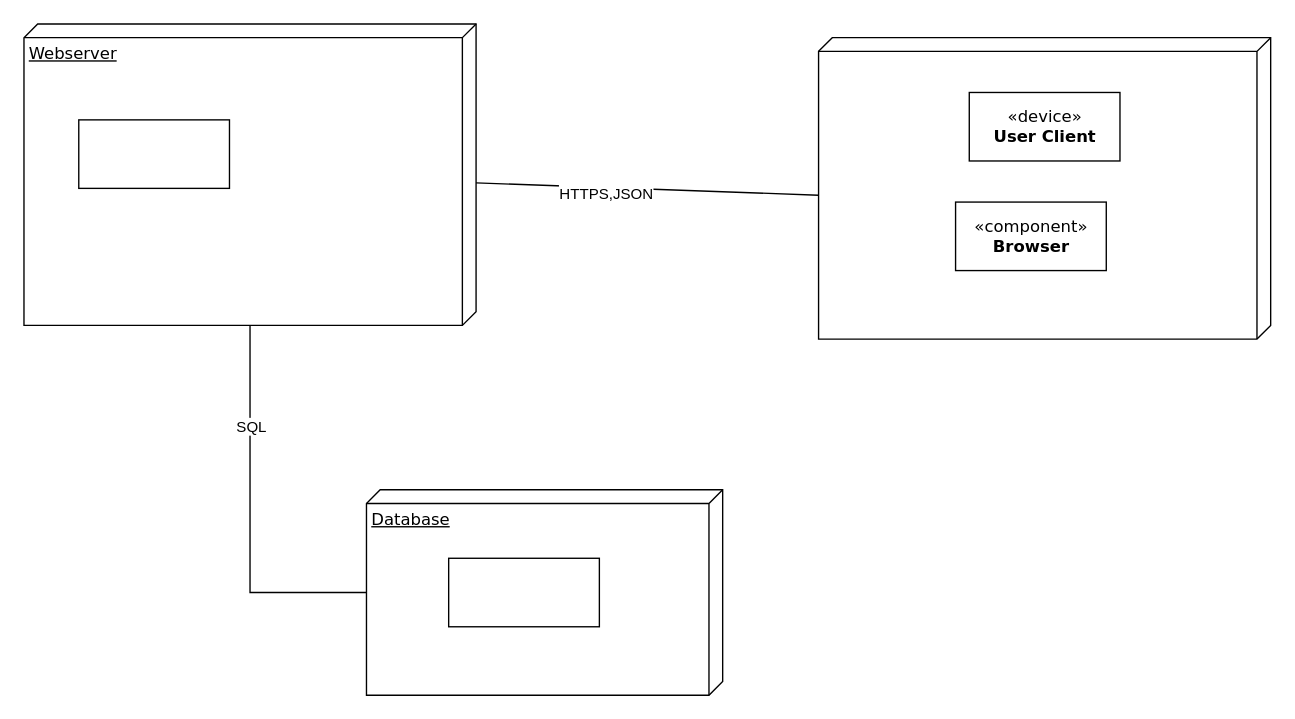
Image size: 1295x719. Some labels were removed from this diagram. The shapes that lost their labels are listed below. From the top down, each one's centre as x and y in pixels, then its label:
At point (153, 153): "«component» CarRent (API)".
At point (523, 592): "«component» MySql".
